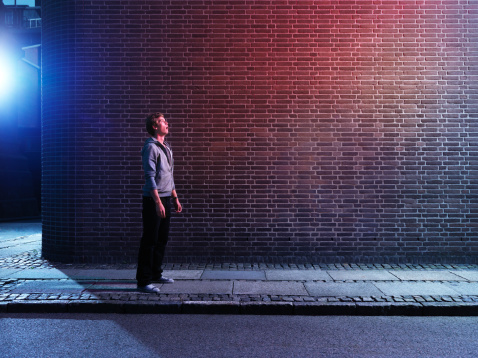em pe: (125, 109, 180, 303)
